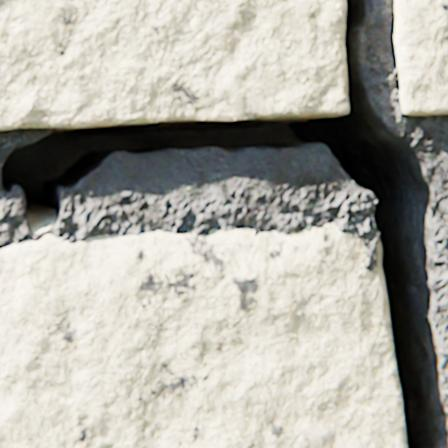brick: (0, 221, 405, 447), (0, 0, 347, 130), (392, 0, 447, 115)
crack: (0, 0, 446, 447)
